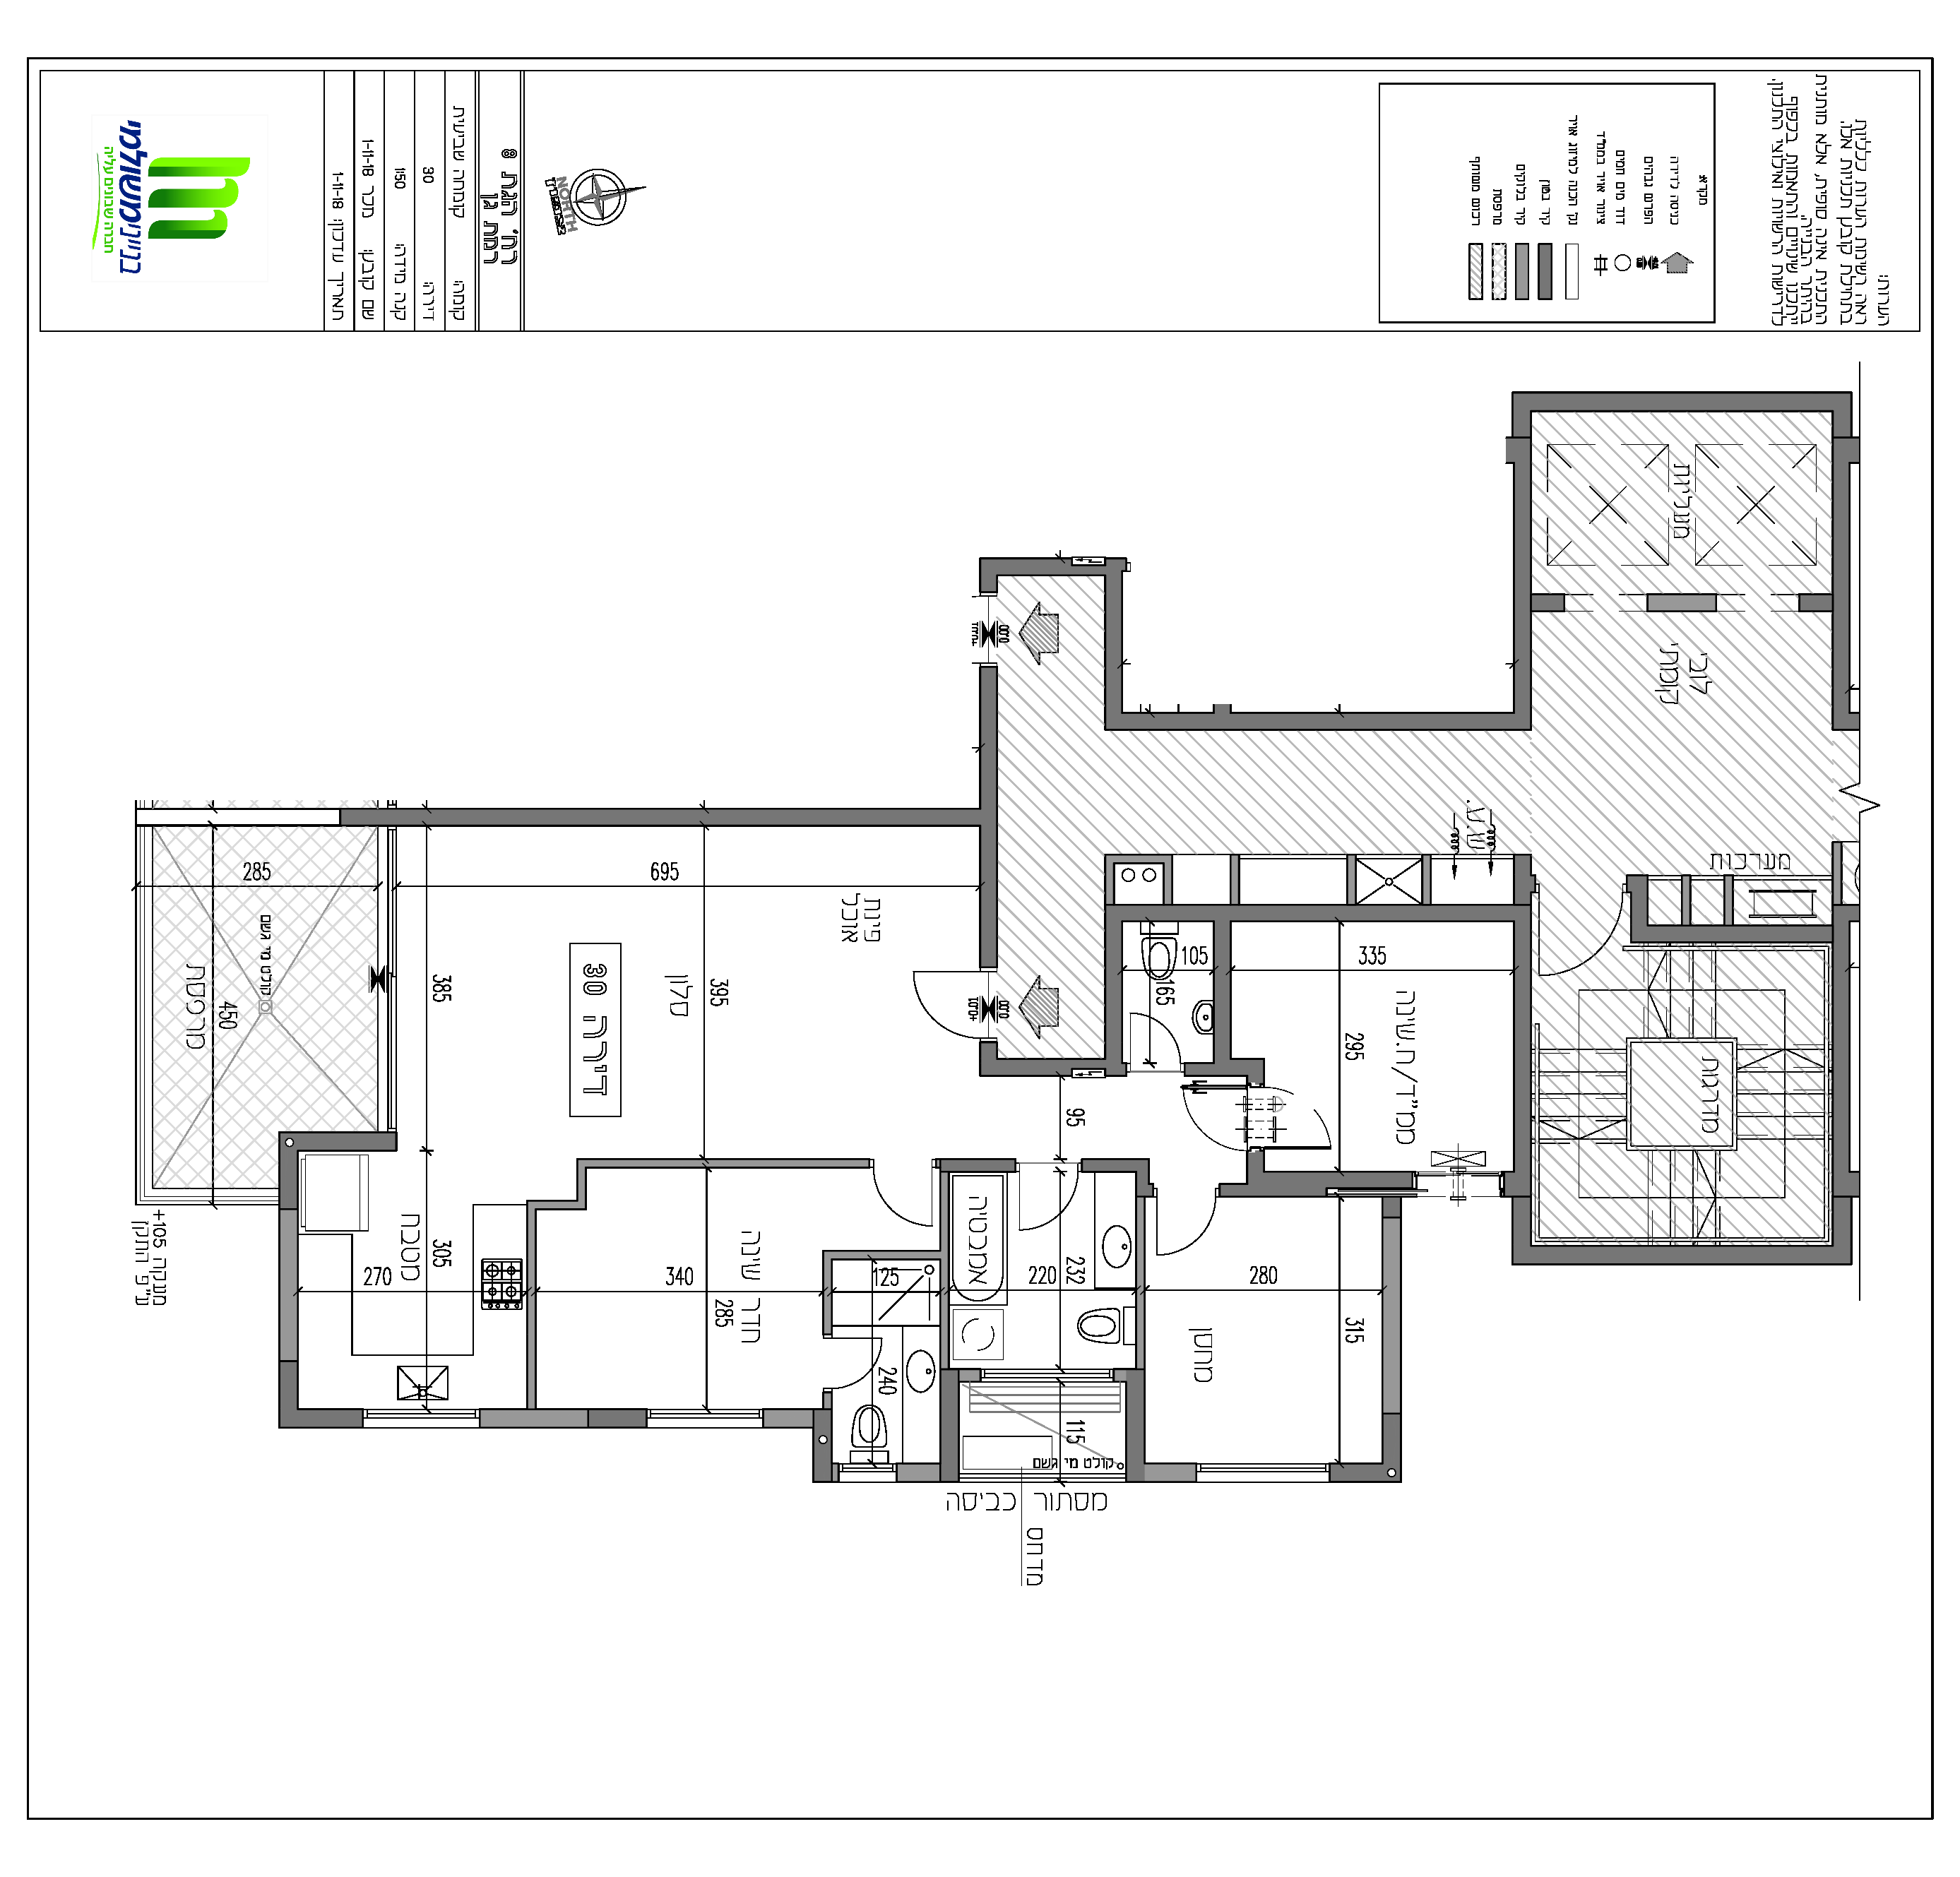door: (894, 959, 963, 1041), (857, 1176, 938, 1240), (1165, 1079, 1230, 1151), (1010, 1177, 1090, 1233), (1153, 1205, 1229, 1265), (837, 1328, 886, 1403), (1125, 1009, 1190, 1058)
rd: (9, 49, 1944, 362)
wall: (366, 808, 992, 826), (1517, 392, 1839, 411), (1113, 712, 1521, 726), (1118, 906, 1509, 918), (1517, 1247, 1846, 1261), (982, 668, 996, 964), (1516, 444, 1529, 696), (1836, 929, 1848, 1188), (1517, 920, 1529, 1176), (280, 1209, 297, 1352), (1386, 1219, 1398, 1412), (1634, 927, 1829, 938), (942, 1371, 957, 1478), (1108, 911, 1118, 1067), (1108, 567, 1118, 722), (1129, 1371, 1143, 1480), (1250, 1176, 1410, 1184), (297, 1134, 392, 1148), (287, 1408, 361, 1426), (1216, 974, 1229, 1062), (529, 1204, 534, 1405), (485, 1413, 583, 1424), (984, 560, 1055, 572), (1227, 1186, 1323, 1195), (282, 1149, 296, 1202), (1516, 1198, 1528, 1258), (943, 1160, 1012, 1170), (1836, 1202, 1848, 1259), (1514, 854, 1528, 903), (1190, 1064, 1262, 1072), (581, 1160, 700, 1165), (1137, 1198, 1144, 1282), (1634, 880, 1645, 936), (1085, 1162, 1146, 1170), (711, 1162, 863, 1165), (1137, 1294, 1143, 1368), (1682, 876, 1689, 924), (1682, 875, 1689, 922), (1725, 876, 1732, 924), (530, 1202, 583, 1207), (1106, 857, 1111, 903), (1165, 857, 1171, 901), (1232, 857, 1237, 901), (1348, 857, 1353, 901), (1423, 857, 1428, 901), (1110, 857, 1167, 861), (579, 1162, 583, 1205)
window: (1190, 1455, 1333, 1490), (353, 1401, 486, 1438), (641, 1401, 770, 1438), (978, 1363, 1115, 1384), (831, 1457, 901, 1490)
